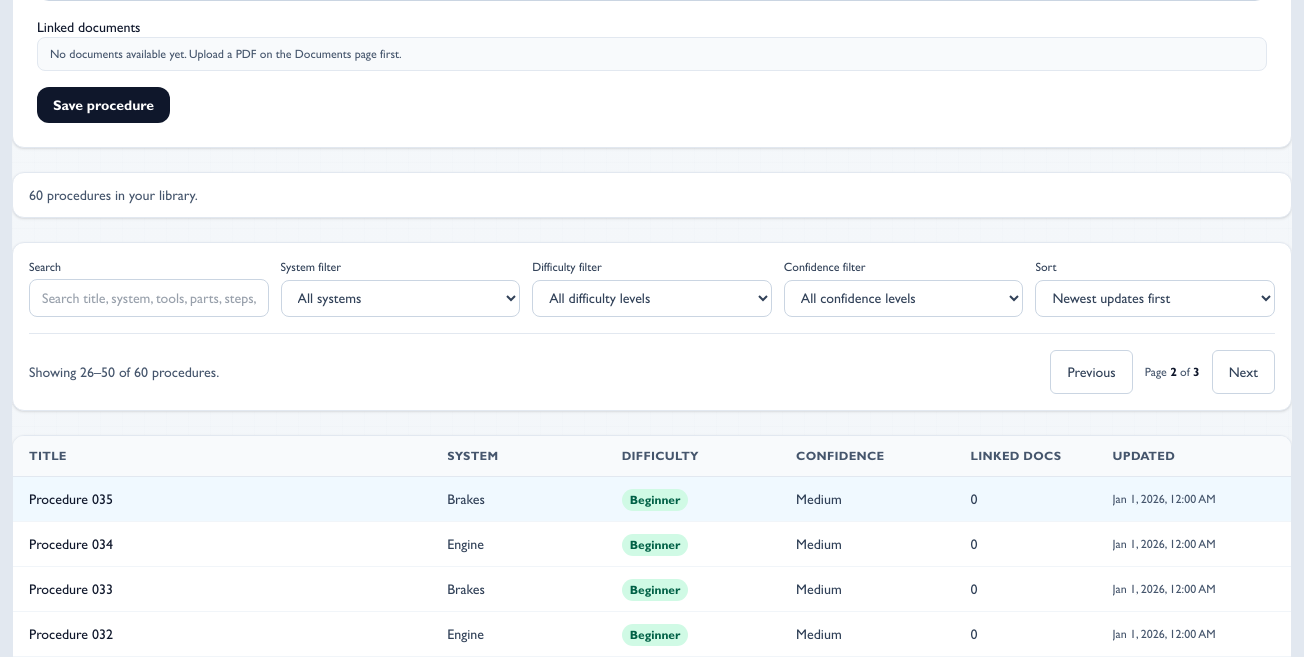
it: a filter is applied over the whole library and starts again from page 1
This screenshot has width=1304, height=657.
(page scrolled)
Select "Engine" in the dropdown labelled "System filter" at point(400, 298), box [281, 280, 520, 317]
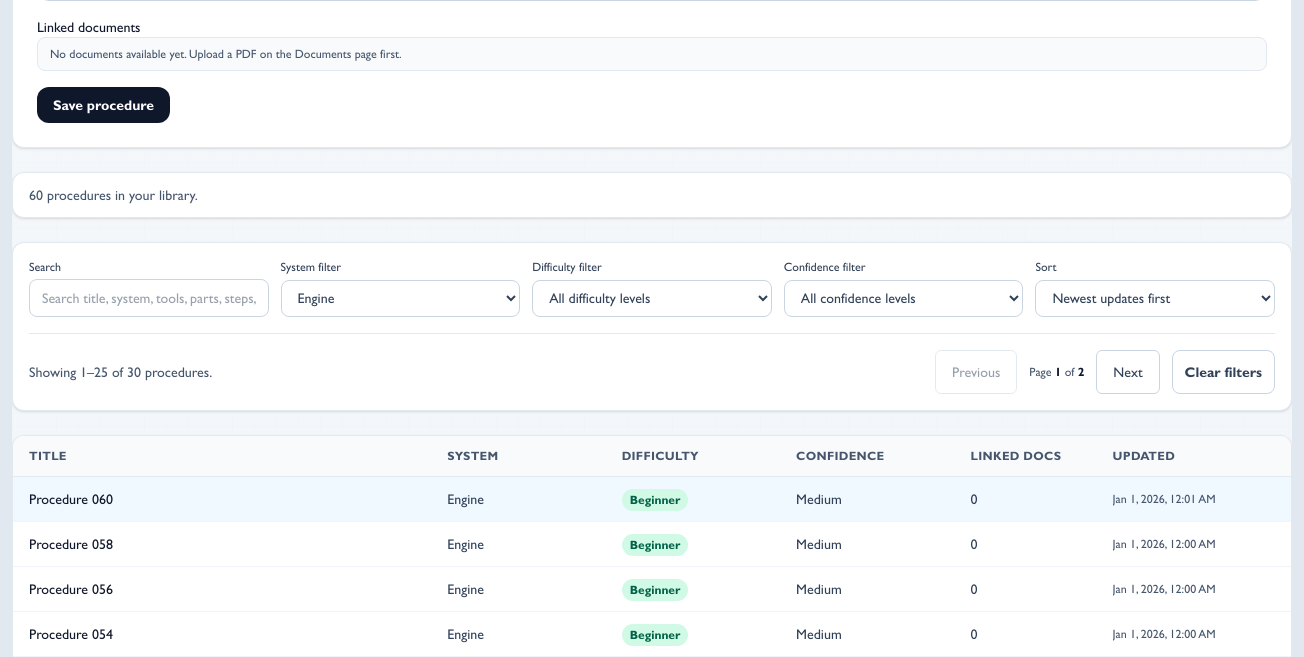
Check: the text "Showing 1–25 of 30 procedures." is shown, box [29, 362, 212, 382]
